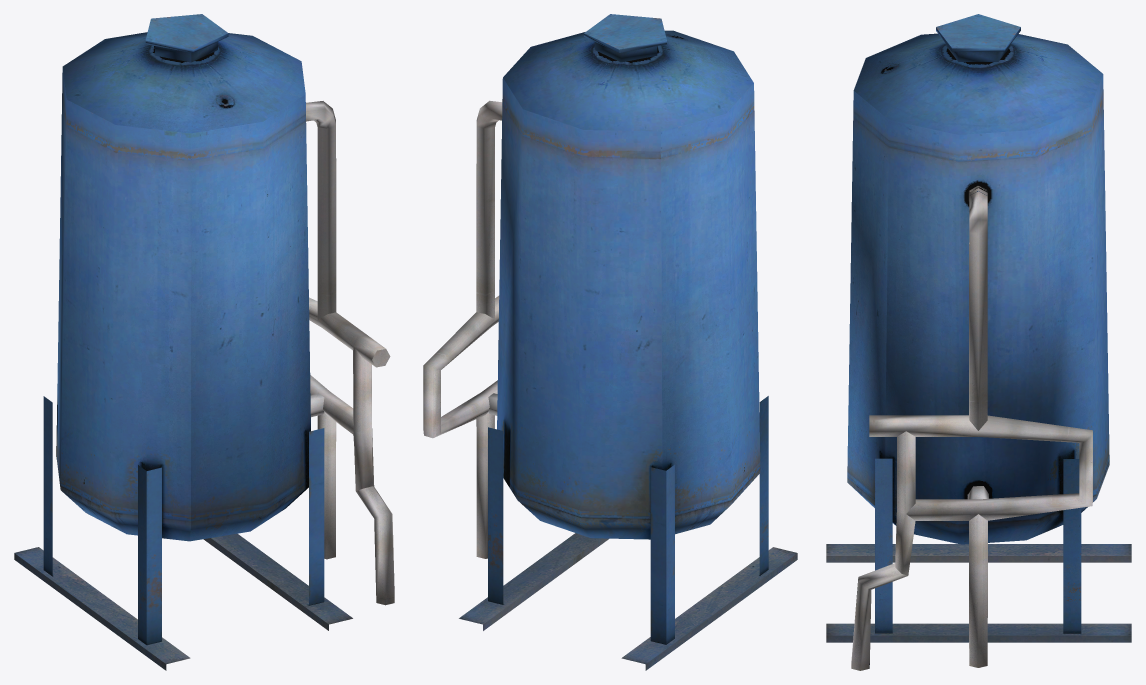
Rendered from Prop_Gl01_lod2.glb.
The picture shows the model from 3 angles, left to right: view 1: azimuth 30°, elevation 25°; view 2: azimuth 150°, elevation 25°; view 3: azimuth 270°, elevation 25°; orthographic projection.
Visible parts, largest first — view 1: xiutz_gl_01_lod2; view 2: xiutz_gl_01_lod2; view 3: xiutz_gl_01_lod2.
Part boxes in pixels (x1=…): xiutz_gl_01_lod2: x1=14, y1=14, x2=394, y2=670; xiutz_gl_01_lod2: x1=423, y1=14, x2=797, y2=670; xiutz_gl_01_lod2: x1=826, y1=14, x2=1131, y2=670.
Size of the model in its own units: 2.21 by 4.47 by 2.2.
1 material, 1 textured.
